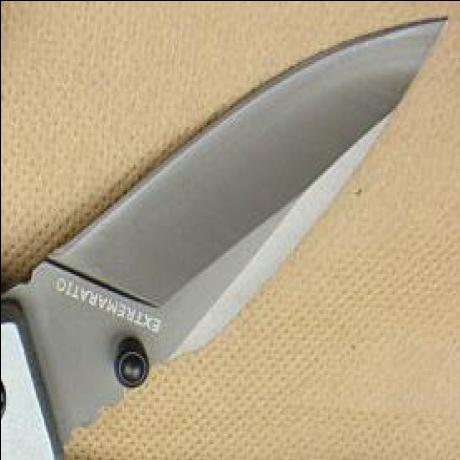weapon: (0, 18, 447, 460)
